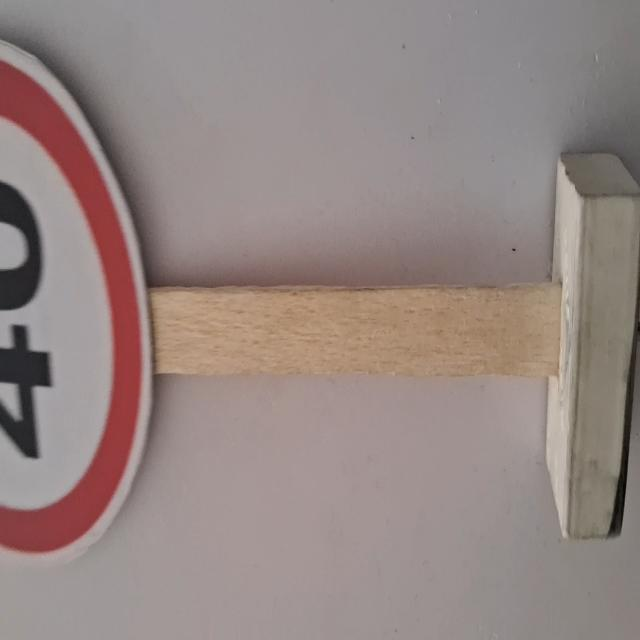Speed40: (1, 17, 155, 578)
